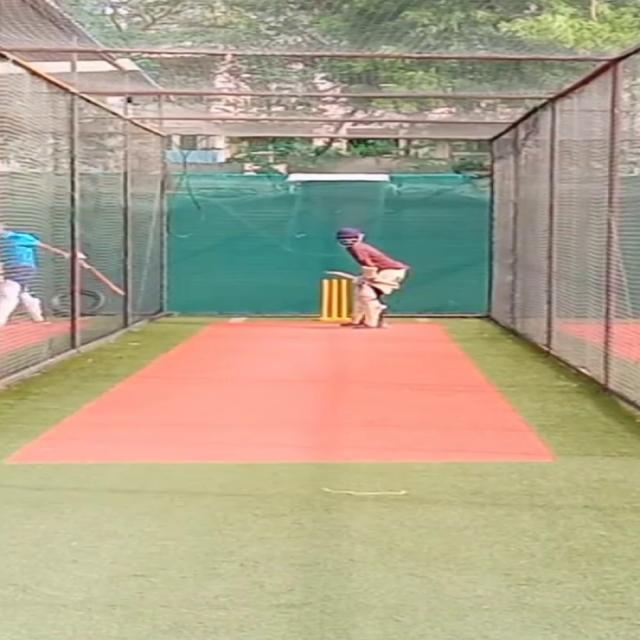stump: (316, 276, 348, 322)
